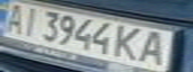3: (33, 9, 63, 43)
4: (90, 20, 118, 56), (72, 16, 96, 52)
9: (51, 14, 78, 47)
A: (133, 28, 175, 66), (0, 1, 30, 34)
I: (15, 6, 45, 38)
K: (112, 24, 148, 62)
